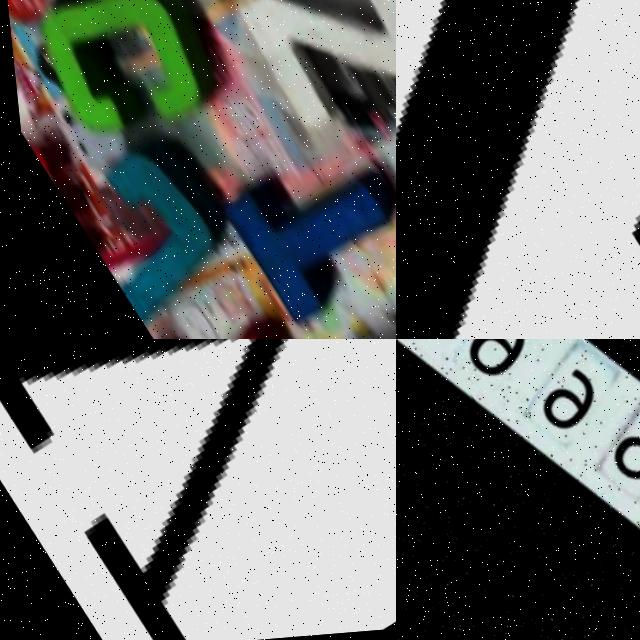9: (491, 342, 623, 464), (413, 339, 561, 416), (557, 388, 640, 519)
C: (33, 0, 291, 144)
I: (136, 259, 354, 339)
J: (38, 85, 296, 326)
T: (251, 72, 396, 303)
Y: (0, 339, 396, 640)
Z: (396, 0, 640, 339)
